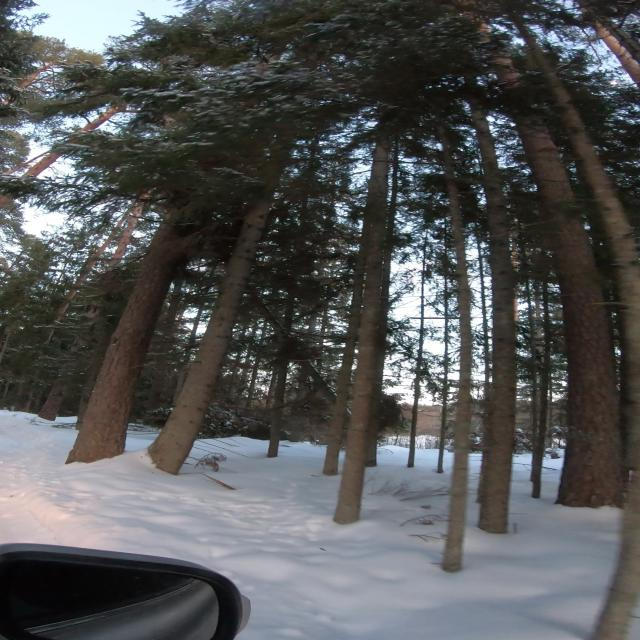trees: (514, 21, 640, 640), (515, 116, 622, 507), (149, 200, 271, 474), (66, 220, 201, 463), (333, 131, 391, 524), (471, 102, 516, 534), (438, 126, 472, 572), (46, 215, 124, 343), (407, 239, 426, 468), (531, 284, 551, 498), (267, 339, 292, 458), (106, 204, 143, 271), (244, 321, 265, 407), (79, 106, 123, 132), (22, 152, 61, 177), (284, 298, 293, 329), (0, 196, 9, 206)
